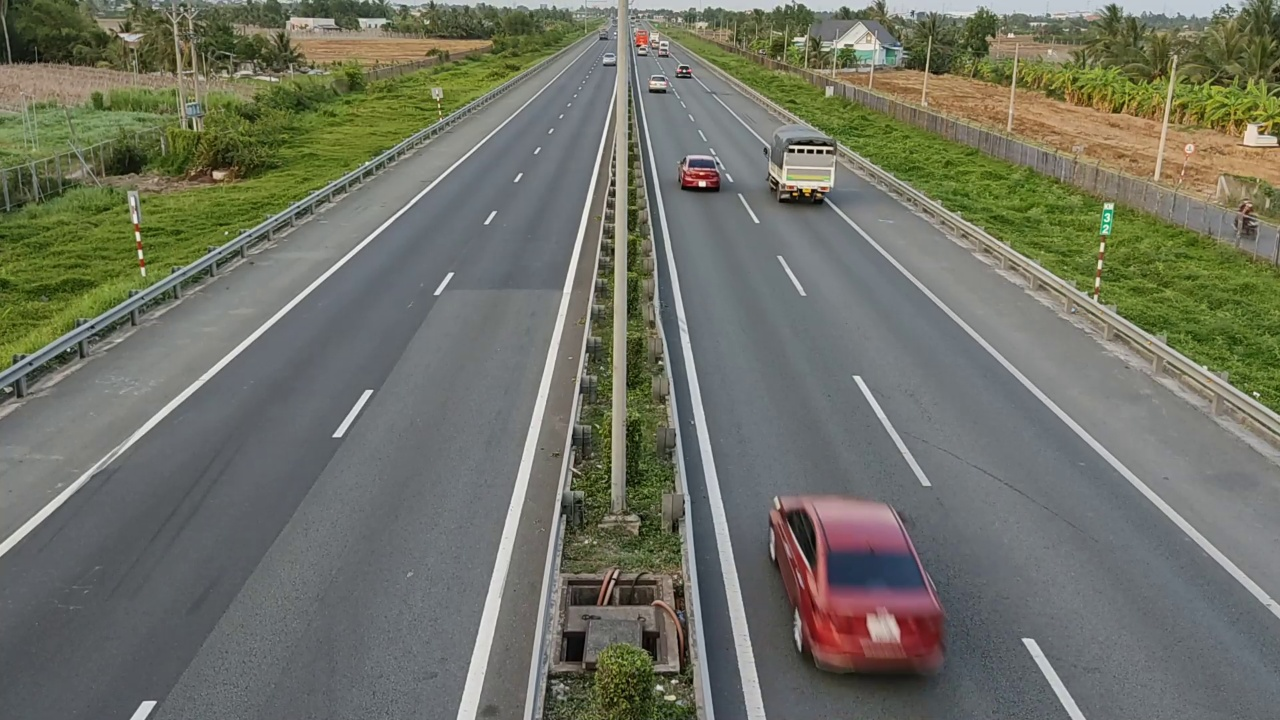car: (767, 491, 949, 675), (677, 153, 721, 191), (648, 74, 670, 93)
truck: (763, 119, 840, 207)
